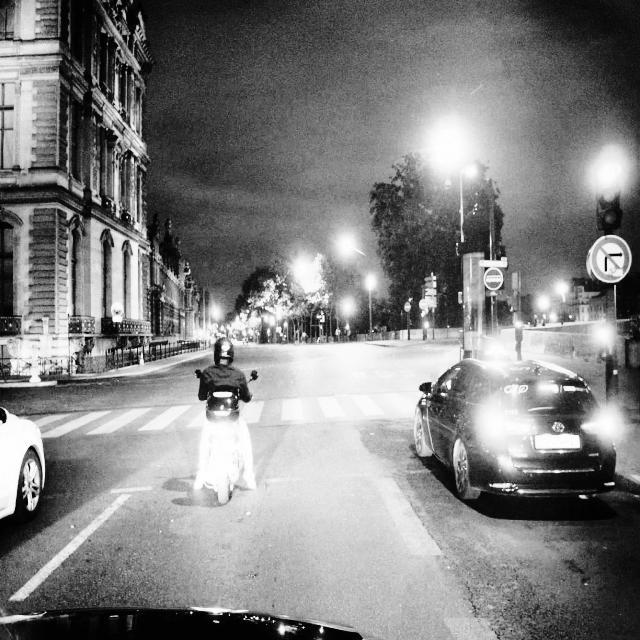Car: (412, 354, 616, 510), (0, 398, 44, 527)
Light: (596, 161, 622, 229), (598, 329, 610, 360)
Motorcycle: (192, 368, 258, 504)
Person: (194, 340, 253, 425)
Sign: (590, 235, 632, 284)
